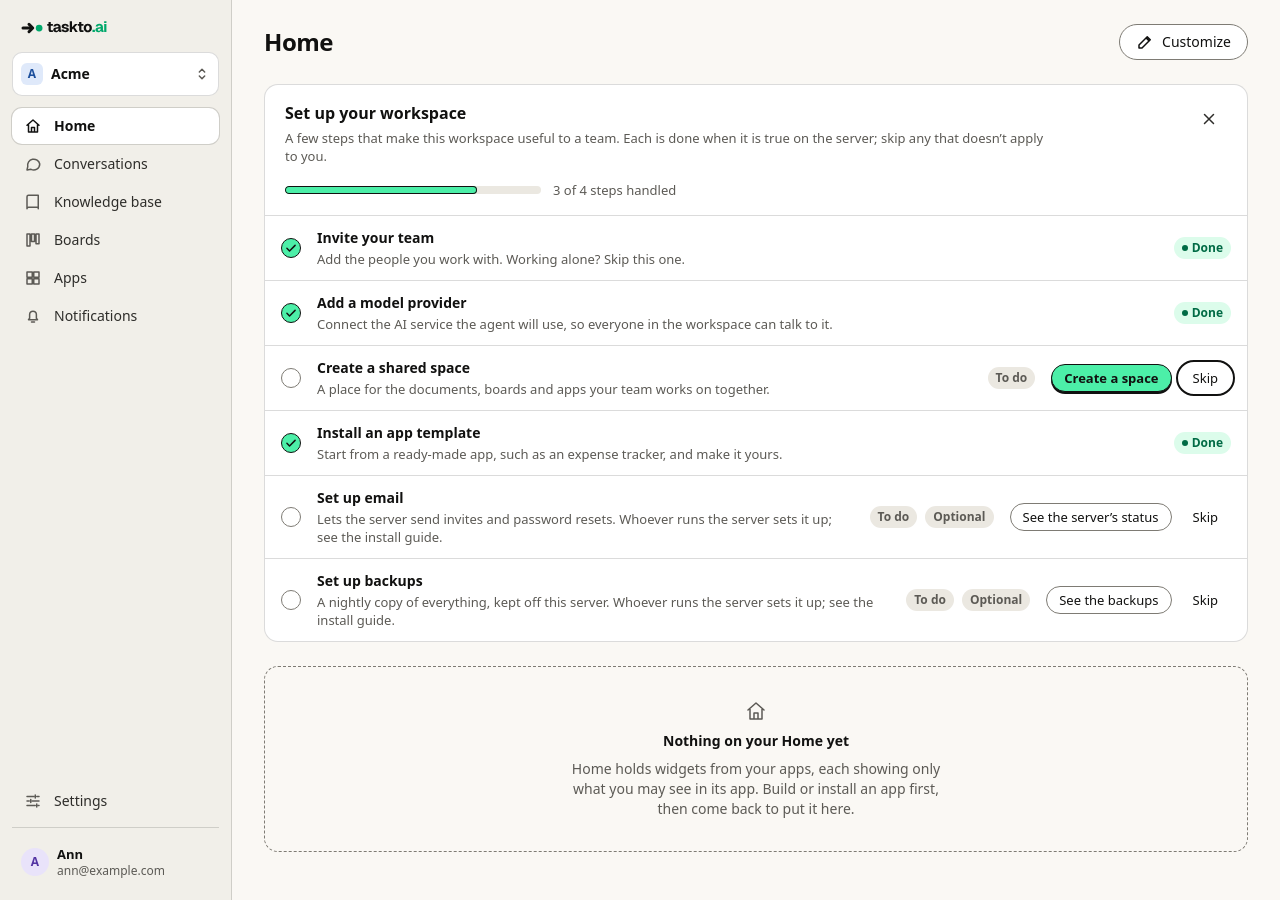
Test case: skipping the last step moves the keyboard to the page and says the list is complete
The image size is (1280, 900).
Click the button with aria-label "Skip: Create a shared space" at (1205, 378), box [1180, 364, 1231, 392]
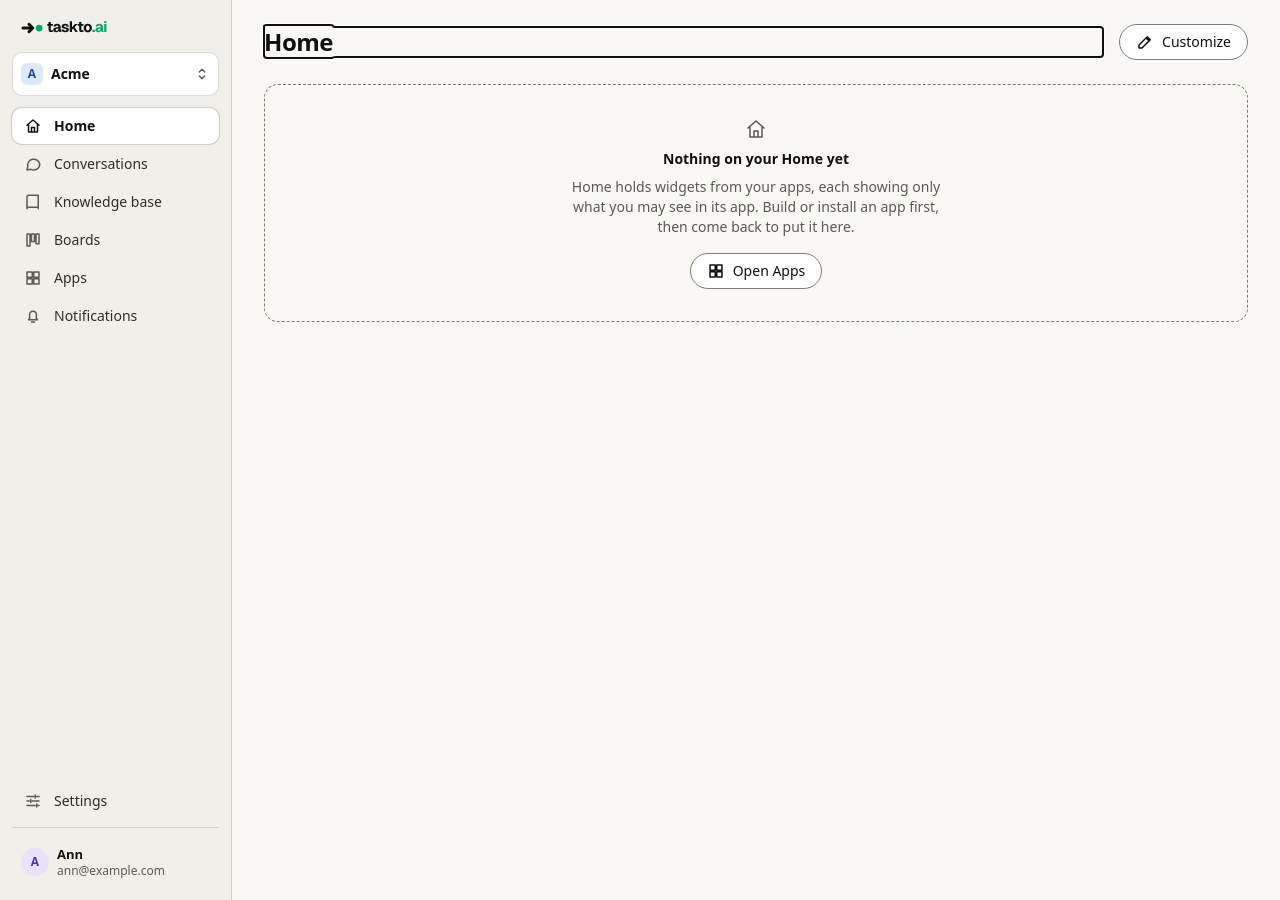
Now the heading "Set up your workspace" is gone
